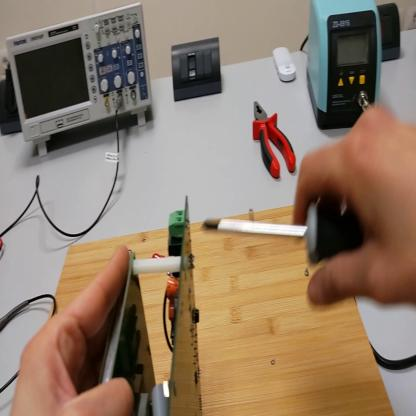hand: (296, 105, 416, 309), (13, 245, 136, 416)
low voltage board: (99, 195, 205, 416)
oscilloscope: (6, 2, 155, 161)
oscilloscope probe tip: (1, 299, 32, 330)
pliers: (253, 103, 295, 178)
screwdriver-: (205, 195, 365, 264)
socket: (375, 4, 404, 63), (3, 79, 23, 137)
welder station: (307, 3, 383, 129)
working area: (49, 203, 395, 414)
